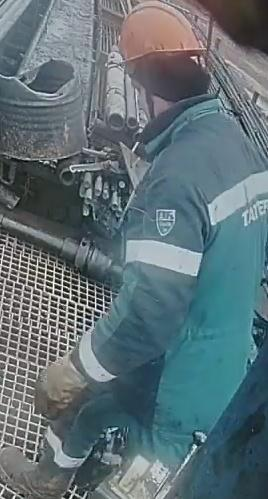gloves: (33, 345, 98, 419)
helmet: (117, 0, 207, 65)
vest: (115, 100, 267, 434)
